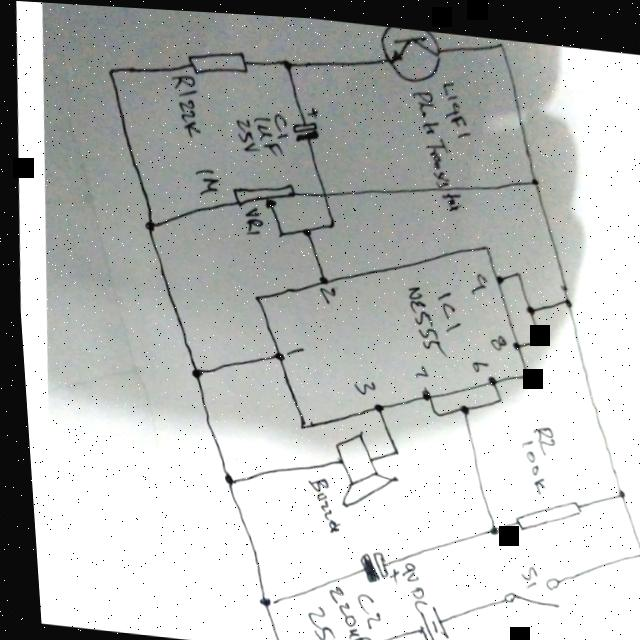capacitor: (349, 544, 395, 579), (287, 98, 322, 142)
crossover: (311, 180, 333, 202)
junction: (494, 31, 508, 45), (520, 297, 534, 311), (508, 261, 522, 275), (322, 212, 336, 226), (105, 63, 119, 77), (426, 403, 440, 417), (558, 289, 572, 302), (532, 328, 546, 341), (281, 53, 294, 67), (298, 220, 312, 233), (141, 217, 155, 230), (217, 469, 230, 483), (251, 591, 265, 604), (384, 439, 397, 453), (487, 385, 501, 398), (609, 479, 623, 492), (527, 169, 540, 182), (273, 223, 286, 236), (187, 364, 200, 377), (453, 397, 466, 410), (481, 518, 494, 531), (629, 539, 640, 553)
resistor: (505, 486, 579, 531), (227, 172, 300, 212), (185, 42, 252, 78)
source: (407, 597, 446, 640)
switch: (489, 563, 559, 606)
text: (400, 81, 469, 207), (298, 578, 378, 640), (400, 278, 463, 354), (232, 104, 292, 155), (167, 69, 205, 137), (298, 471, 338, 530), (438, 74, 474, 133), (388, 555, 423, 606), (513, 431, 543, 487), (524, 417, 554, 450), (192, 163, 221, 194), (240, 202, 263, 234), (346, 371, 374, 393), (464, 265, 487, 291), (512, 557, 534, 583), (316, 280, 336, 301), (484, 327, 506, 346), (464, 353, 488, 369), (408, 356, 427, 375)
transistor: (372, 19, 448, 81)
